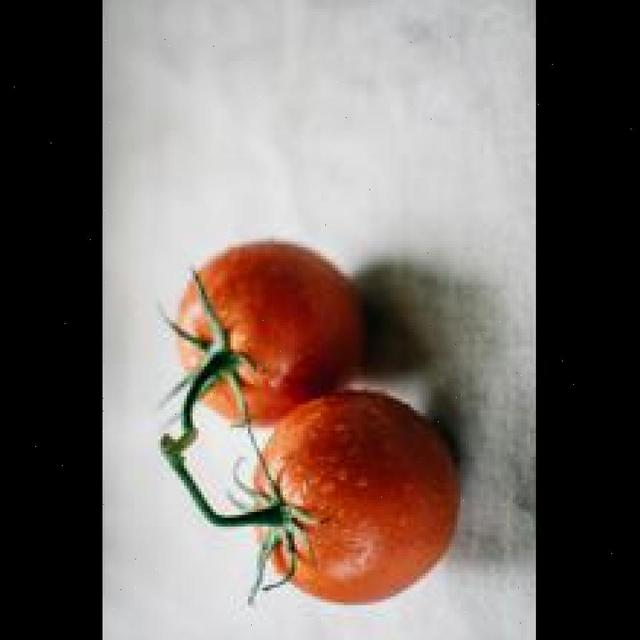Healthy Fruit: (137, 129, 233, 334)
